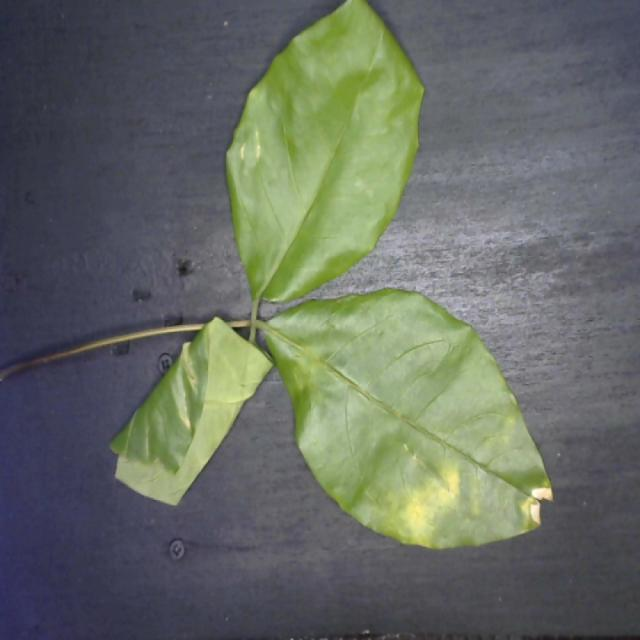biodegradable: (0, 0, 558, 553)
